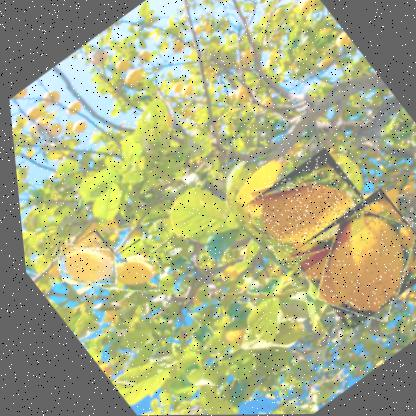lemon: (278, 185, 415, 331), (232, 144, 380, 277), (82, 235, 165, 309), (42, 226, 123, 300)
